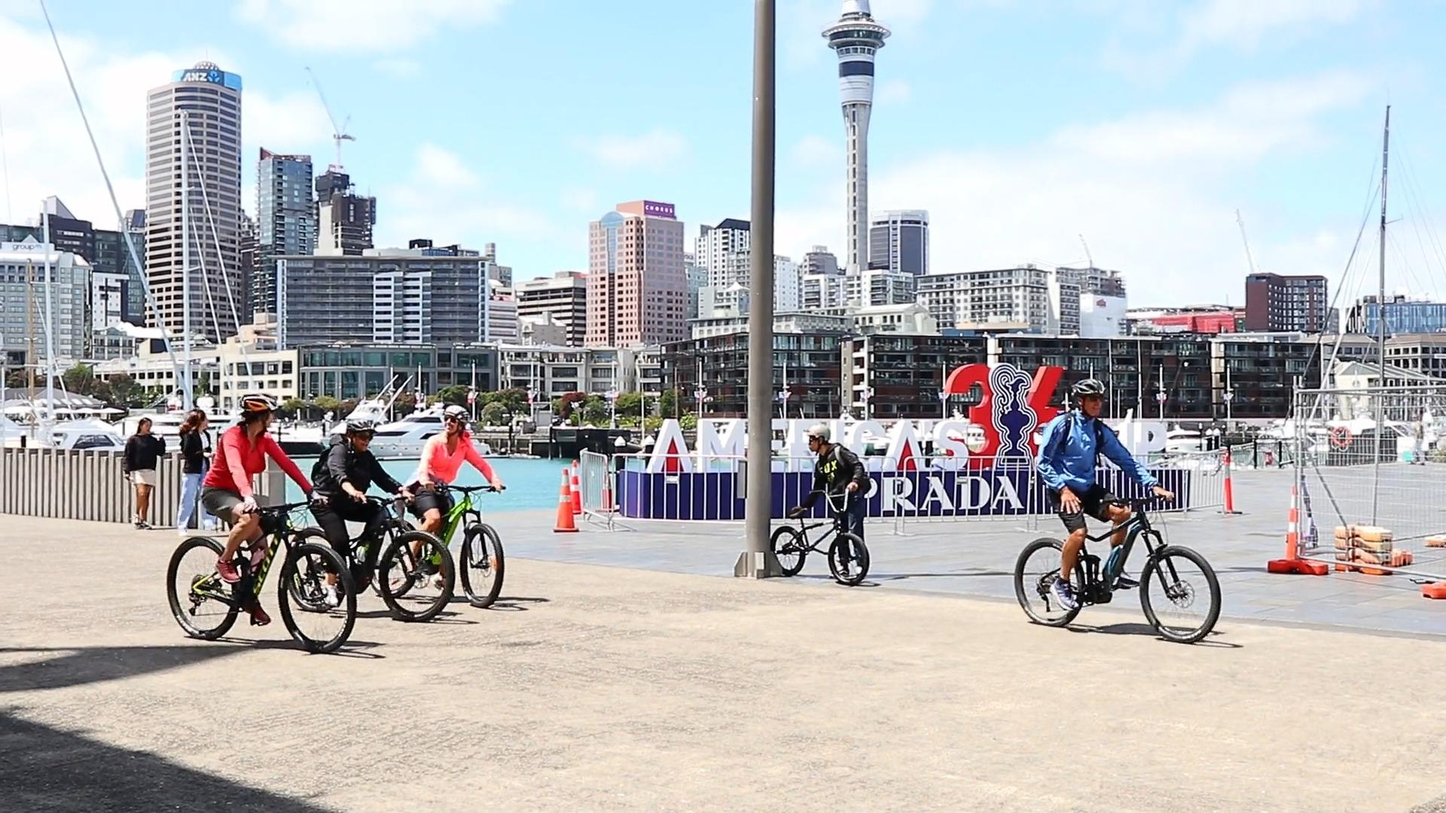bicyclist: (1014, 378, 1221, 644), (167, 392, 357, 654), (285, 417, 456, 624), (367, 404, 505, 609)
helmet: (238, 391, 278, 433), (1070, 378, 1106, 419), (345, 418, 379, 451), (444, 405, 470, 439), (808, 424, 831, 456), (443, 406, 444, 406)
